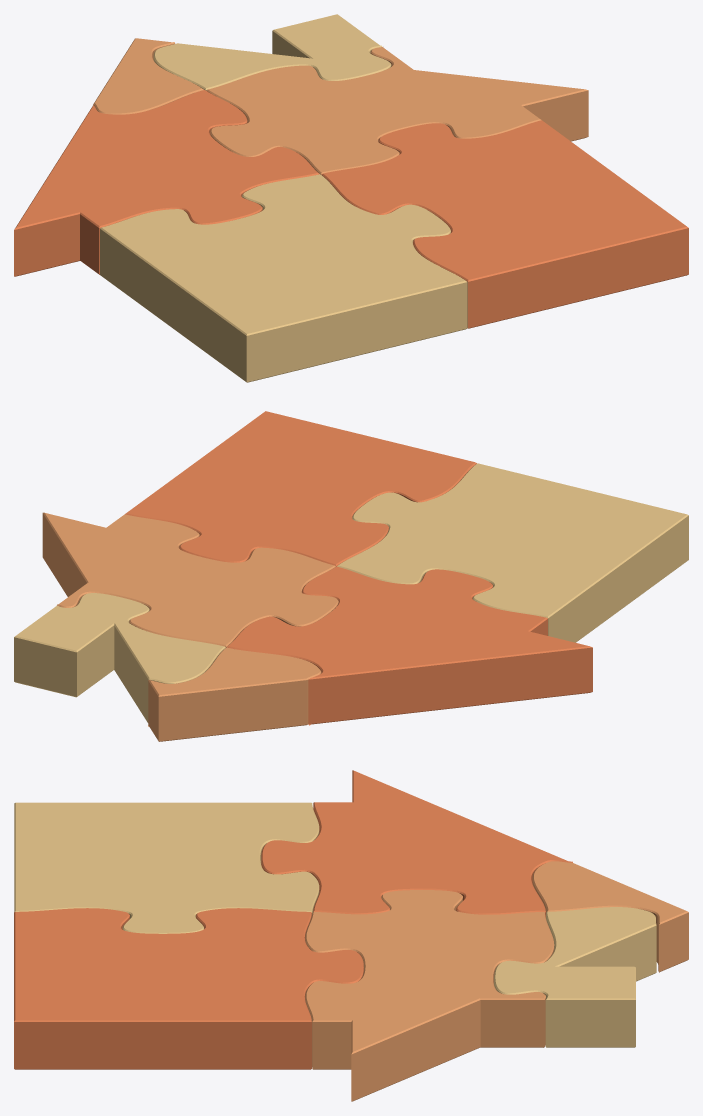
The model's file is sweethome3d-blendswap-cc-0-puzzle-17.glb.
3 renders of one model, top to bottom at view 1: azimuth 30°, elevation 25°; view 2: azimuth 150°, elevation 25°; view 3: azimuth 270°, elevation 25°, orthographic. The views are drawn at different scales.
Parts seen in each view (by area): view 1: puzzle_bottom_left_BezierCurve.006, puzzle_bottom_right_BezierCurve, puzzle_middle_left_BezierCurve.004, puzzle_middle_right_BezierCurve.005, puzzle_top_right_BezierCurve.002, puzzle_top_left_BezierCurve.007; view 2: puzzle_bottom_left_BezierCurve.006, puzzle_middle_left_BezierCurve.004, puzzle_bottom_right_BezierCurve, puzzle_middle_right_BezierCurve.005, puzzle_top_right_BezierCurve.002, puzzle_top_left_BezierCurve.007; view 3: puzzle_bottom_right_BezierCurve, puzzle_middle_right_BezierCurve.005, puzzle_bottom_left_BezierCurve.006, puzzle_middle_left_BezierCurve.004, puzzle_top_right_BezierCurve.002, puzzle_top_left_BezierCurve.007.
Part boxes in pixels (bbox=[...]): puzzle_bottom_left_BezierCurve.006: bbox=[100, 174, 467, 382]; puzzle_bottom_right_BezierCurve: bbox=[321, 120, 688, 328]; puzzle_middle_left_BezierCurve.004: bbox=[14, 90, 319, 276]; puzzle_middle_right_BezierCurve.005: bbox=[206, 47, 588, 174]; puzzle_top_right_BezierCurve.002: bbox=[153, 14, 391, 90]; puzzle_top_left_BezierCurve.007: bbox=[93, 38, 203, 114]; puzzle_bottom_left_BezierCurve.006: bbox=[337, 463, 688, 642]; puzzle_middle_left_BezierCurve.004: bbox=[226, 566, 592, 725]; puzzle_bottom_right_BezierCurve: bbox=[125, 411, 476, 566]; puzzle_middle_right_BezierCurve.005: bbox=[42, 512, 338, 647]; puzzle_top_right_BezierCurve.002: bbox=[14, 593, 225, 722]; puzzle_top_left_BezierCurve.007: bbox=[148, 647, 321, 741]; puzzle_bottom_right_BezierCurve: bbox=[14, 908, 363, 1069]; puzzle_middle_right_BezierCurve.005: bbox=[305, 890, 554, 1101]; puzzle_bottom_left_BezierCurve.006: bbox=[14, 802, 319, 933]; puzzle_middle_left_BezierCurve.004: bbox=[261, 770, 572, 917]; puzzle_top_right_BezierCurve.002: bbox=[494, 907, 656, 1047]; puzzle_top_left_BezierCurve.007: bbox=[532, 861, 688, 972].
Bounding box in the file's own units: 15.53 × 1.27 × 15.58.
